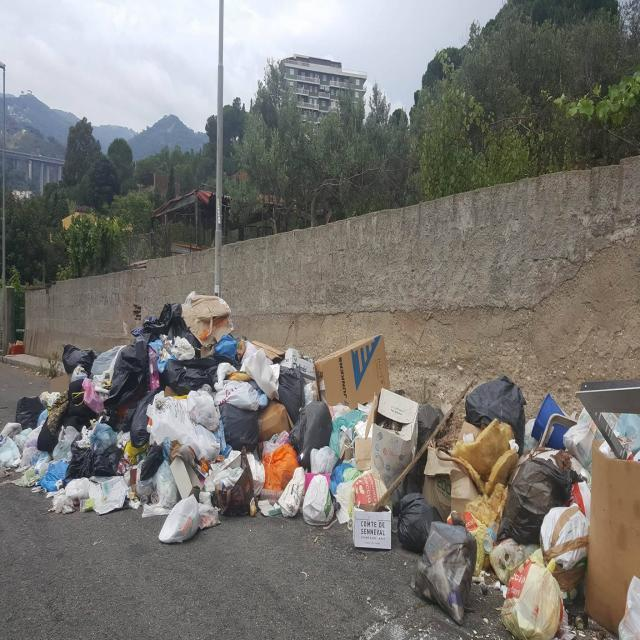garbage: (1, 286, 640, 640)
